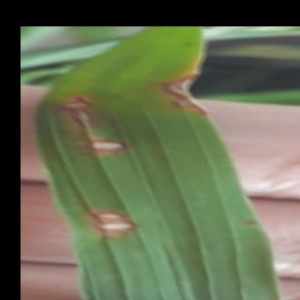Brown_Spot: (157, 61, 215, 122), (83, 125, 136, 168), (48, 88, 95, 115), (59, 109, 101, 139), (90, 218, 135, 240), (86, 200, 128, 222)
